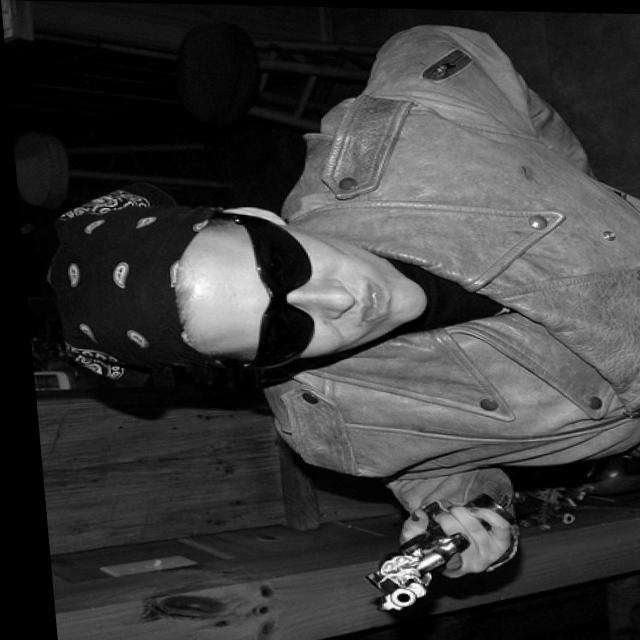handgun: (339, 496, 487, 614)
